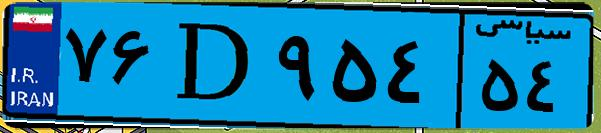4: (385, 28, 445, 110), (525, 38, 570, 115)
5: (330, 28, 385, 110), (475, 38, 525, 113)
6: (110, 28, 158, 98)
7: (57, 26, 110, 100)
9: (270, 28, 330, 110)
D: (158, 12, 270, 120)
